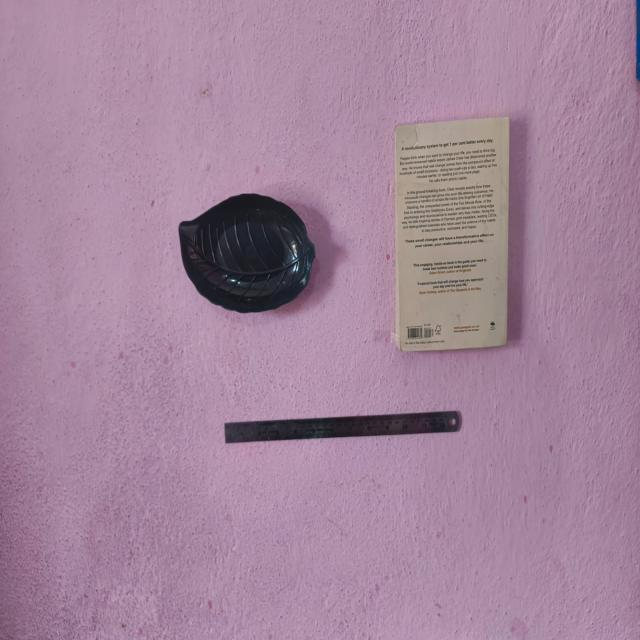Book: (390, 110, 512, 362)
pen: (176, 184, 322, 318)
plate: (216, 403, 472, 447)
